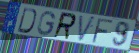9: (110, 21, 131, 48)
D: (16, 7, 38, 34)
F: (90, 18, 115, 44)
G: (37, 11, 57, 37)
R: (51, 11, 78, 41)
V: (77, 14, 96, 44)
